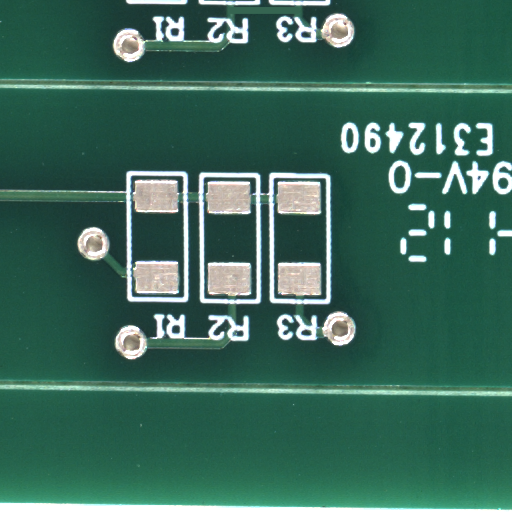Short: (264, 10, 343, 25)
